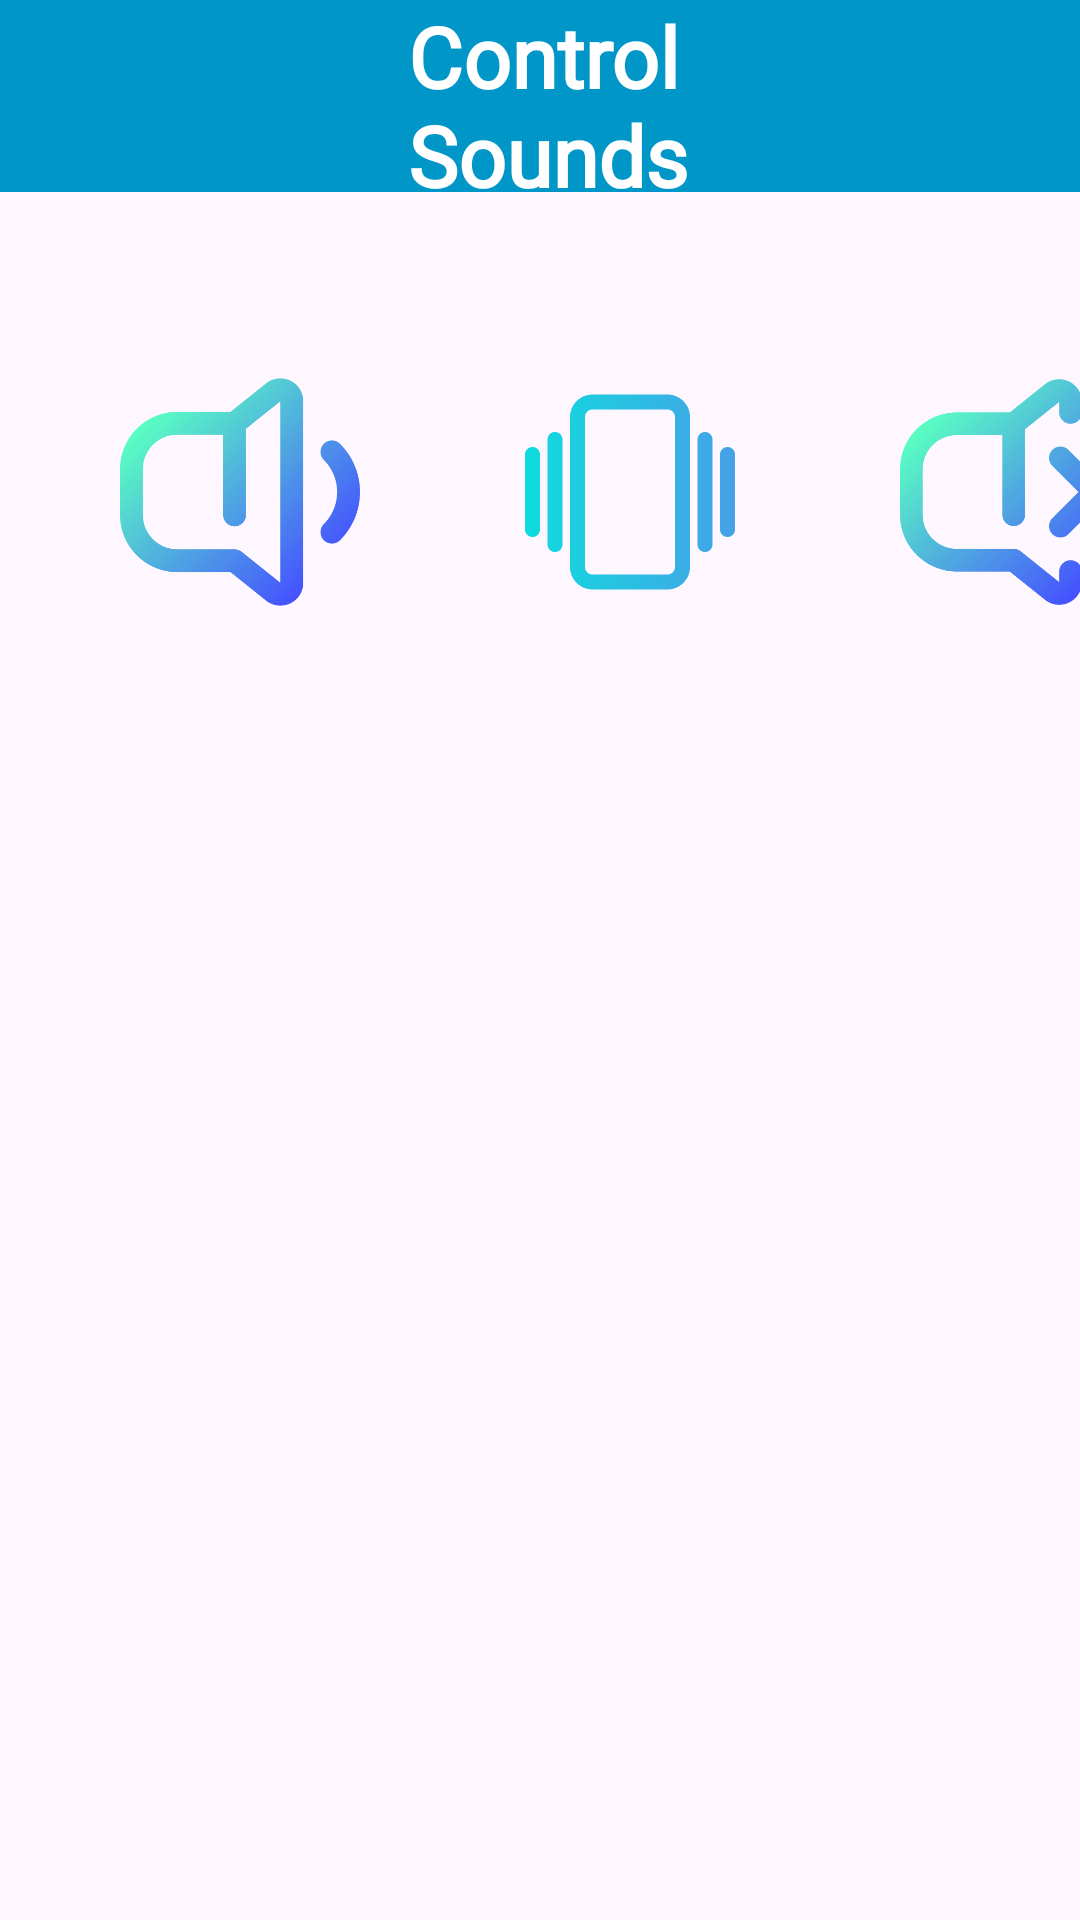

Where icons sit on this 1080 × 1920 app screen, as (x1, y1, x2, y2):
ringer: (120, 378, 360, 606)
vibration: (525, 394, 735, 590)
